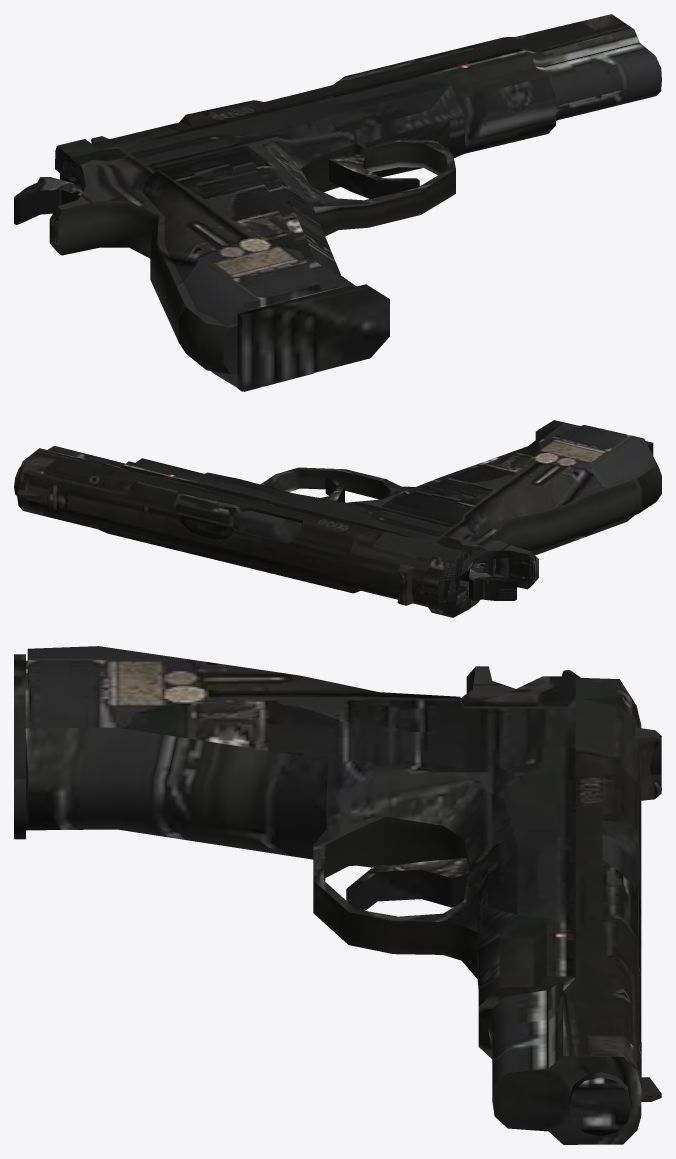
Rendered from t5_weapon_cz75_dw_lh_world.glb.
3 views of the same model, one above another, from view 1: azimuth 30°, elevation 25°; view 2: azimuth 150°, elevation 25°; view 3: azimuth 270°, elevation 25° (orthographic). The views are drawn at different scales.
Visible parts, largest first — view 1: t5_weapon_cz75_dw_lh_world; view 2: t5_weapon_cz75_dw_lh_world; view 3: t5_weapon_cz75_dw_lh_world.
Boxes of the visible parts, bbox=[...] form: t5_weapon_cz75_dw_lh_world: bbox=[14, 14, 661, 391]; t5_weapon_cz75_dw_lh_world: bbox=[14, 420, 661, 617]; t5_weapon_cz75_dw_lh_world: bbox=[14, 646, 661, 1144].
Bounding box in the file's own units: 0.2115 × 0.0324 × 0.1384.
1 material, 1 textured.
